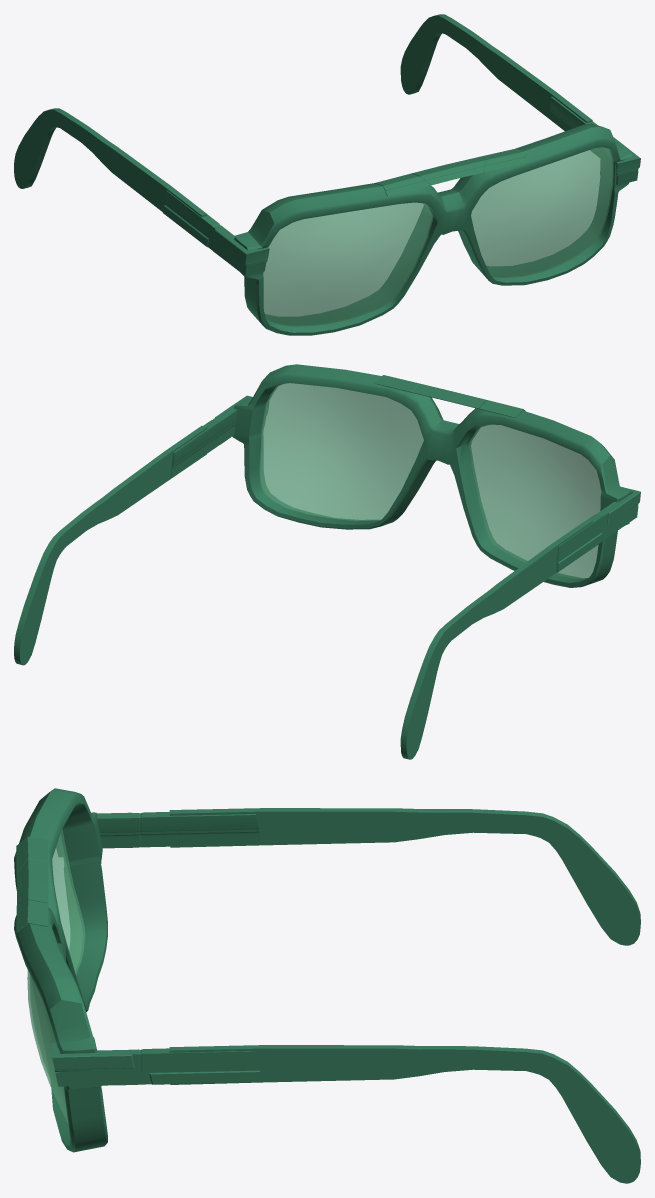
File: model_16_hijau_tua.glb
The picture shows the model from 3 angles, top to bottom: view 1: azimuth 30°, elevation 25°; view 2: azimuth 150°, elevation 25°; view 3: azimuth 270°, elevation 25°; orthographic projection. The views are drawn at different scales.
Visible parts, largest first — view 1: model_16_hijau_tua; view 2: model_16_hijau_tua; view 3: model_16_hijau_tua.
Part boxes in pixels (left/top/right/bottom): model_16_hijau_tua: left=14, top=14, right=640, bottom=335; model_16_hijau_tua: left=14, top=364, right=640, bottom=759; model_16_hijau_tua: left=14, top=788, right=640, bottom=1183.
Size of the model in its own units: 0.6398 by 0.2292 by 0.6973.
